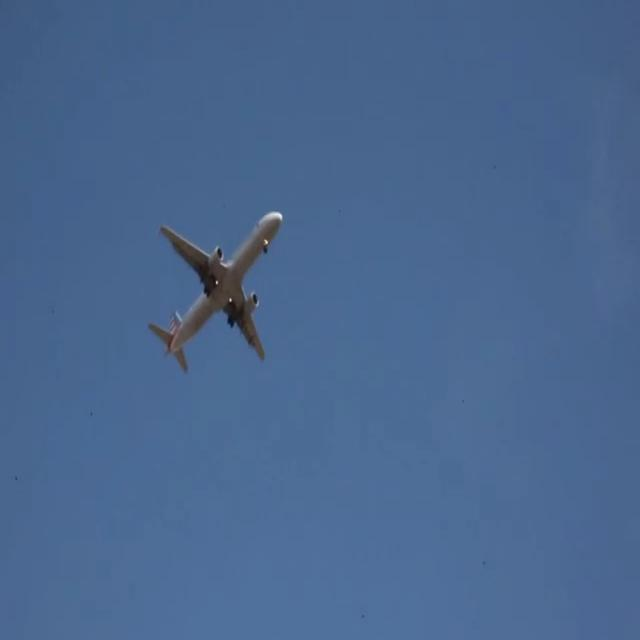AirPlane: (126, 188, 303, 390)
